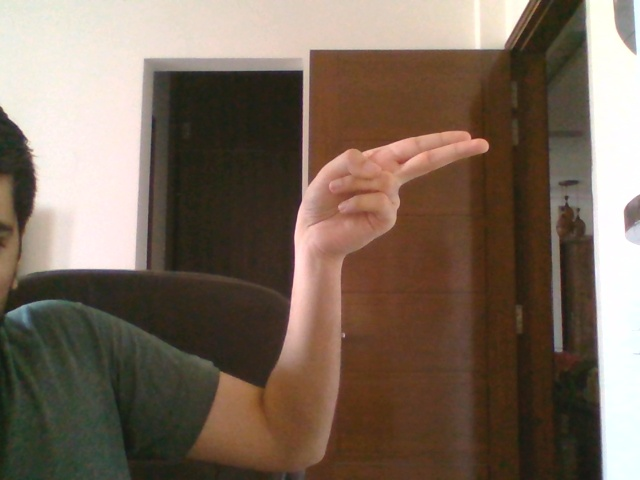LetterH: (293, 129, 490, 257)
